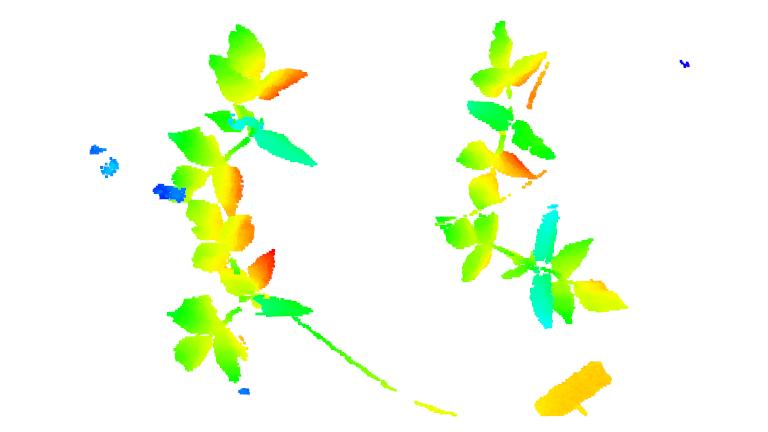mungbean: (157, 20, 323, 211), (164, 201, 315, 381), (436, 209, 630, 331), (455, 17, 557, 208)
